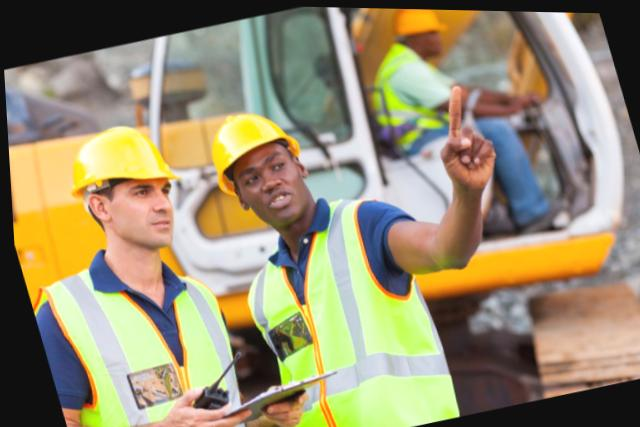helmet: (196, 101, 300, 202), (55, 117, 173, 198), (388, 7, 449, 35)
vest: (225, 191, 452, 427), (23, 260, 255, 427), (360, 42, 452, 149)
